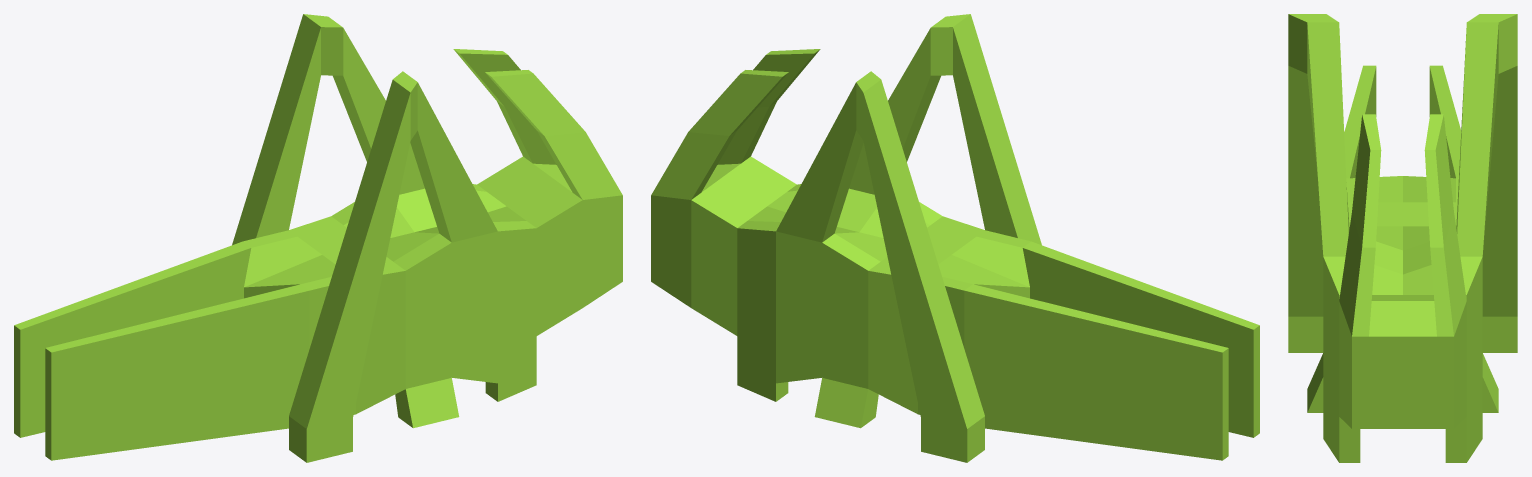
File: locust.fbx
The picture shows the model from 3 angles, left to right: view 1: azimuth 30°, elevation 25°; view 2: azimuth 150°, elevation 25°; view 3: azimuth 270°, elevation 25°; orthographic projection. The views are drawn at different scales.
Parts seen in each view (by area): view 1: Cube; view 2: Cube; view 3: Cube.
Boxes of the visible parts, box(x1,y1,x2,y2) form: Cube: box(14, 14, 622, 462); Cube: box(651, 14, 1259, 462); Cube: box(1288, 14, 1517, 462).
Bounding box in the file's own units: 351 × 205 × 115.
